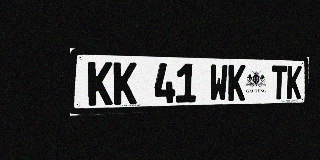1: (176, 63, 196, 103)
4: (154, 63, 176, 104)
K: (88, 61, 113, 106), (113, 62, 137, 105), (228, 64, 246, 101), (287, 66, 302, 99)
T: (271, 65, 287, 100)
W: (209, 64, 228, 102)
